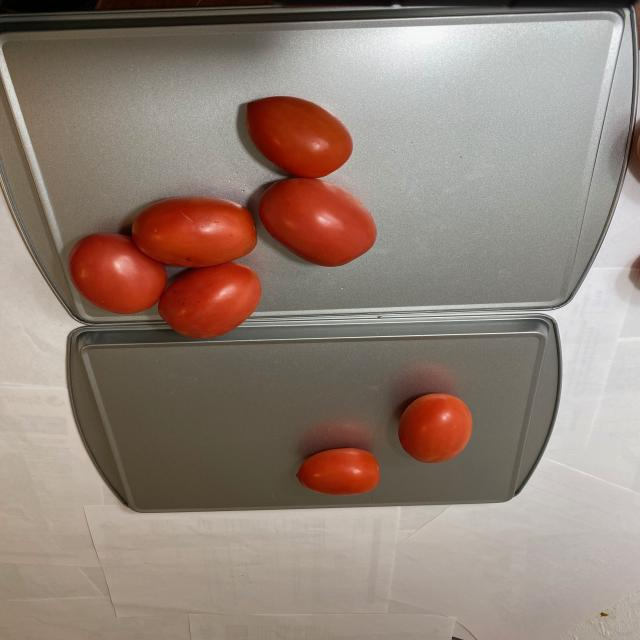tomato: (63, 92, 376, 336), (292, 386, 471, 496)
